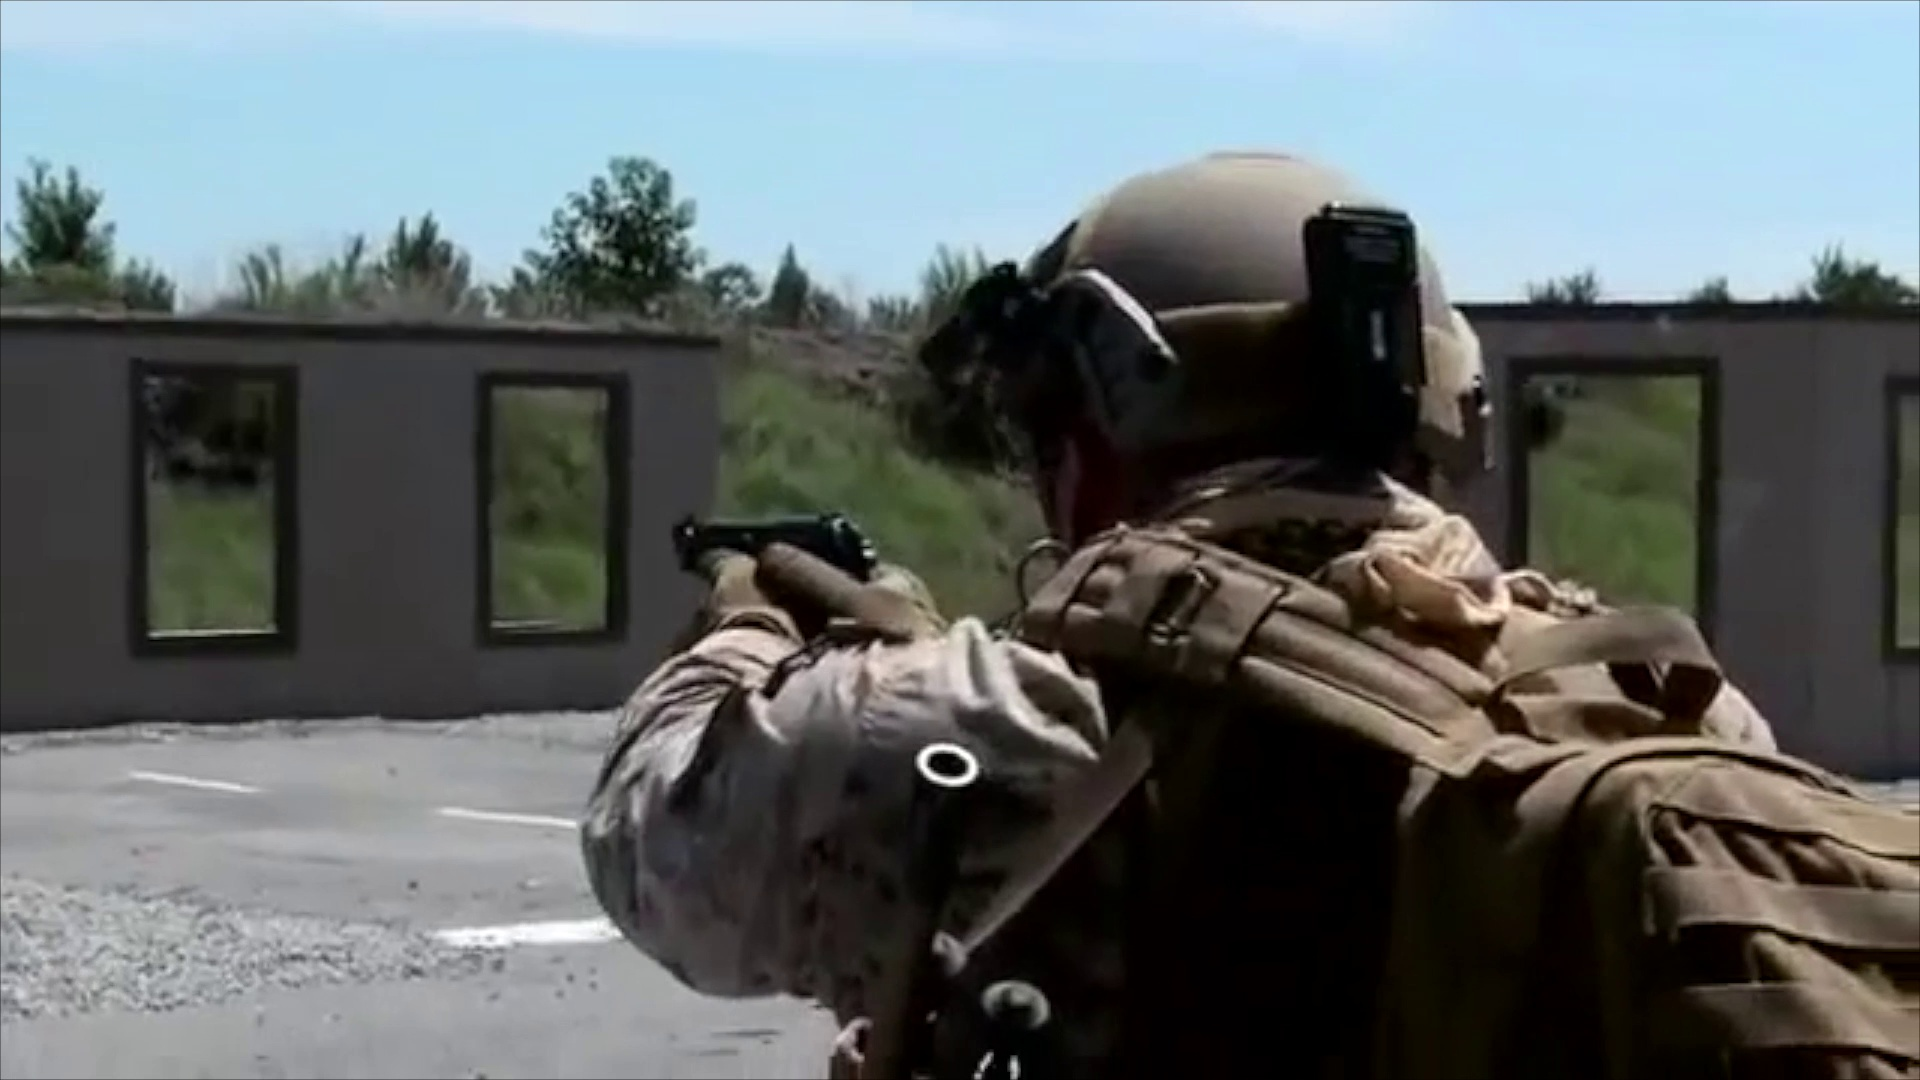gun: (665, 495, 873, 625)
